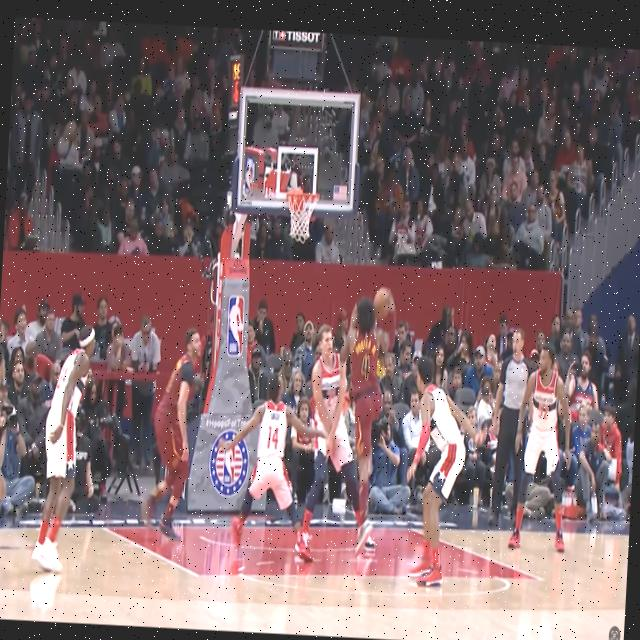no foul: (286, 279, 398, 562)
